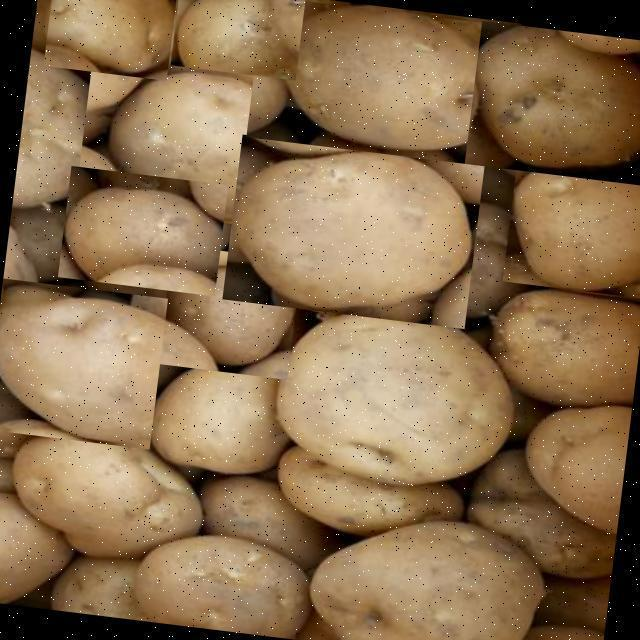potato: (254, 279, 516, 490), (222, 134, 484, 328), (246, 0, 513, 166), (75, 45, 311, 230), (301, 506, 555, 640), (10, 414, 215, 571), (255, 423, 478, 555), (464, 19, 640, 184), (0, 276, 167, 448), (470, 280, 640, 413), (128, 521, 314, 640), (58, 165, 228, 295), (502, 150, 640, 297), (158, 244, 302, 379), (513, 390, 633, 536), (12, 46, 105, 211), (43, 0, 178, 79), (170, 0, 305, 79), (0, 476, 73, 610)
